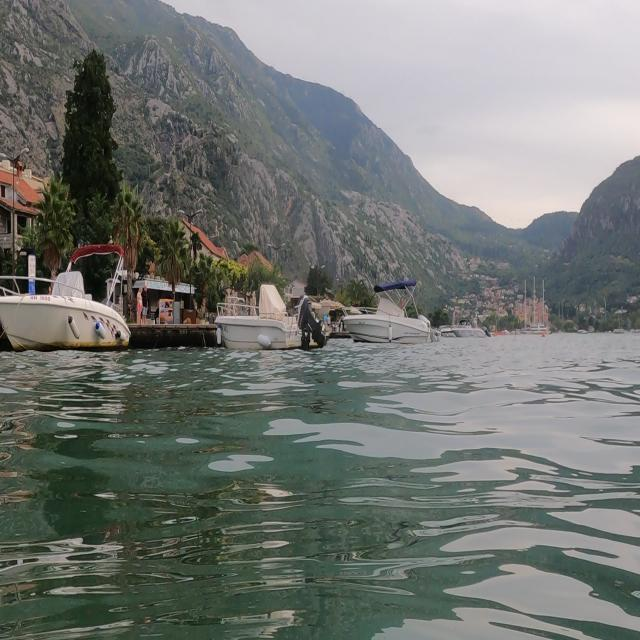boat: (1, 240, 133, 354), (207, 268, 337, 358), (341, 264, 446, 362), (519, 271, 557, 346), (436, 296, 492, 346)
